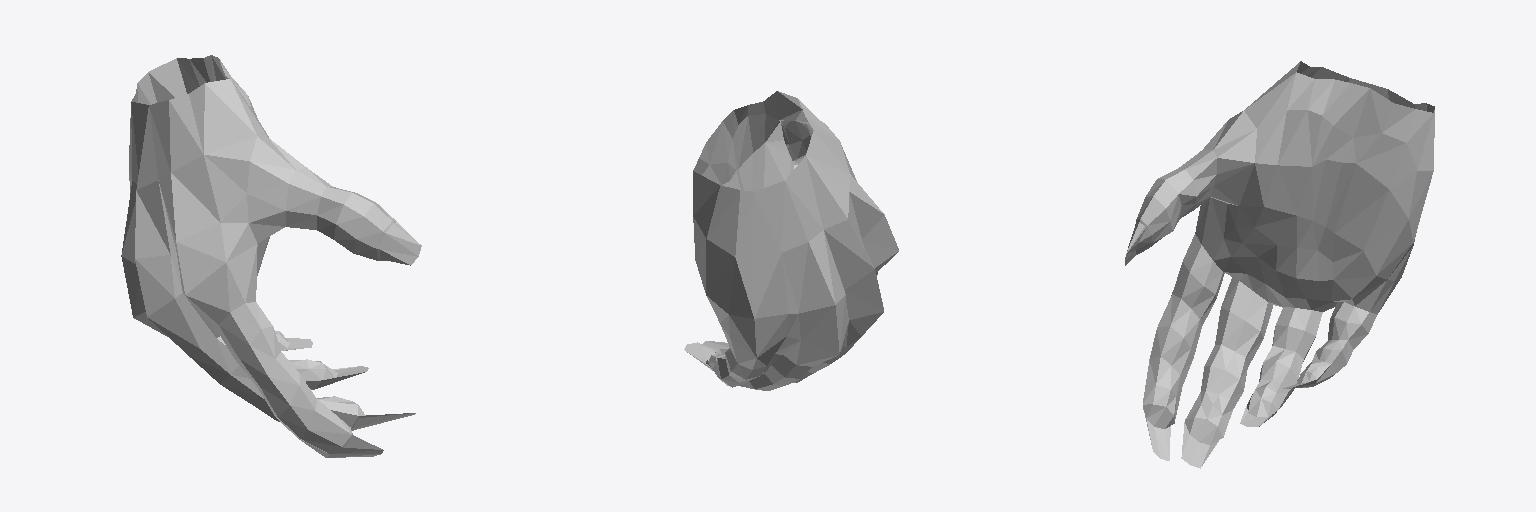
File: Hand_Right.obj
3 renders of one model, left to right at view 1: azimuth 30°, elevation 25°; view 2: azimuth 150°, elevation 25°; view 3: azimuth 270°, elevation 25°, orthographic.
Visible parts, largest first — view 1: Hand.001_Cube.001; view 2: Hand.001_Cube.001; view 3: Hand.001_Cube.001.
Part boxes in pixels (x1,y1,x2,y2): Hand.001_Cube.001: (121,55,421,457); Hand.001_Cube.001: (684,91,898,390); Hand.001_Cube.001: (1125,61,1434,468).
Size of the model in its own units: 2.43 by 3.57 by 2.86.